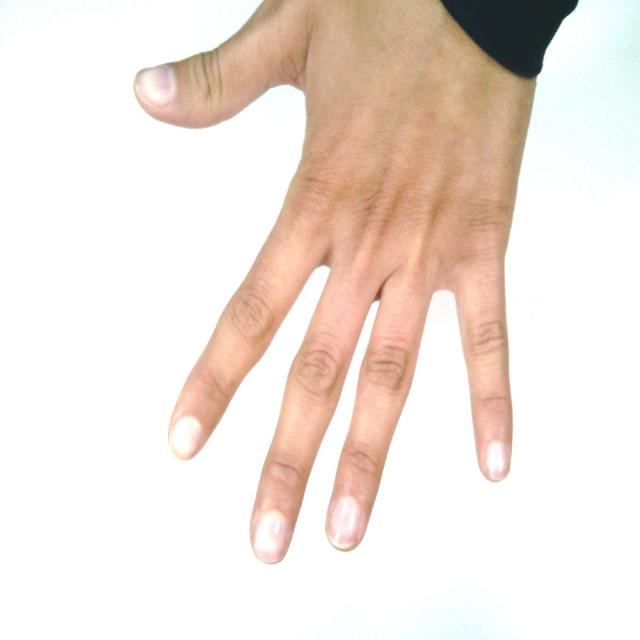others: (134, 0, 594, 573)
